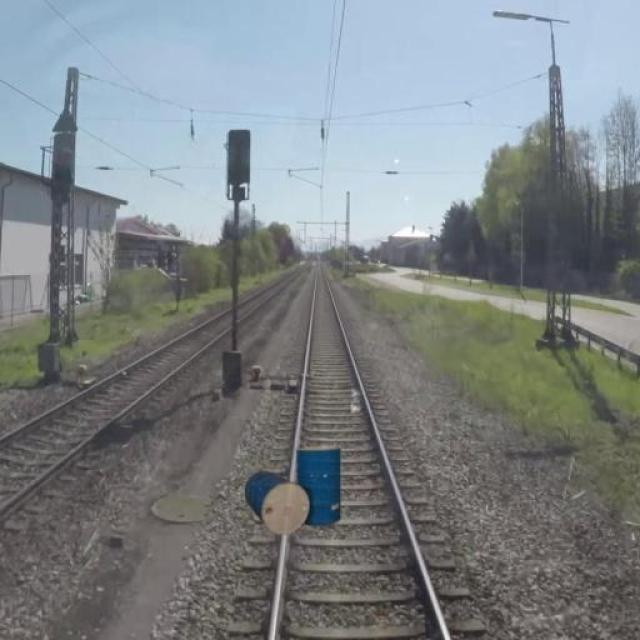Other_objects: (240, 438, 349, 540)
